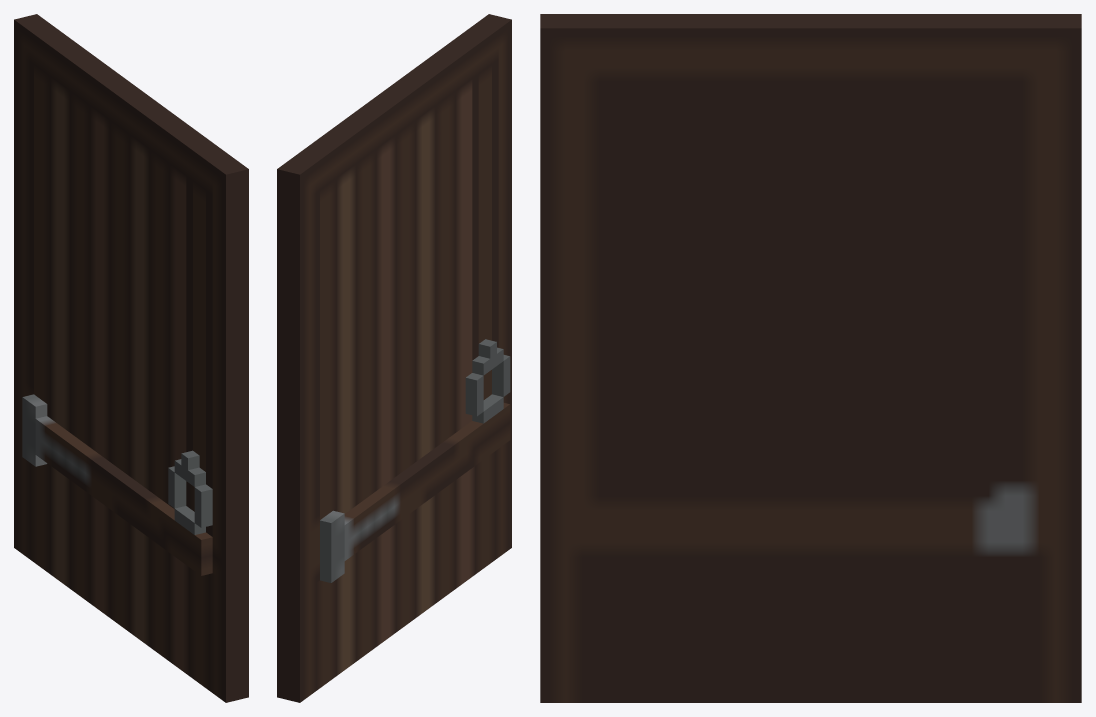
The model's file is Door_WithoutWindow-1_00.fbx.
3 views of the same model, side by side, from view 1: azimuth 30°, elevation 25°; view 2: azimuth 150°, elevation 25°; view 3: azimuth 270°, elevation 25° (orthographic). The views are drawn at different scales.
Visible parts, largest first — view 1: Door_WithoutWindow-1_00; view 2: Door_WithoutWindow-1_00; view 3: Door_WithoutWindow-1_00.
Part boxes in pixels (left/top/right/bottom): Door_WithoutWindow-1_00: left=14, top=14, right=248, bottom=702; Door_WithoutWindow-1_00: left=277, top=14, right=511, bottom=702; Door_WithoutWindow-1_00: left=540, top=14, right=1081, bottom=702.
Size of the model in its own units: 15 by 220 by 160.
